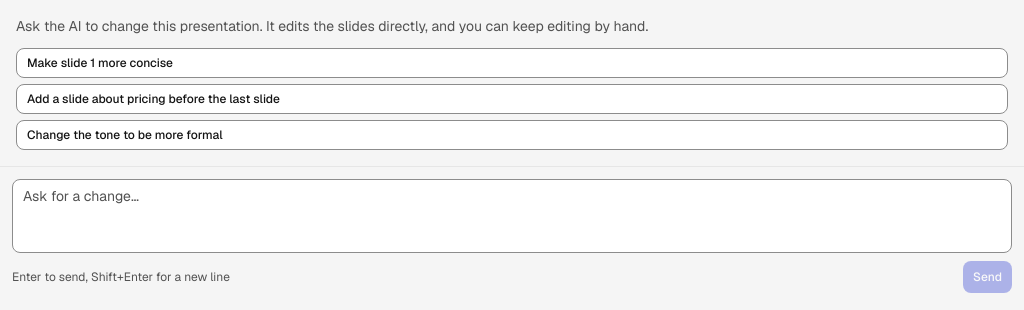
Test case: ChatPanel › keeps received changes and offers a retry when the stream ends early
Type "Shorten slide 1" into the text box named "Message to the AI" at (512, 216), box 12,179 -> 1012,253
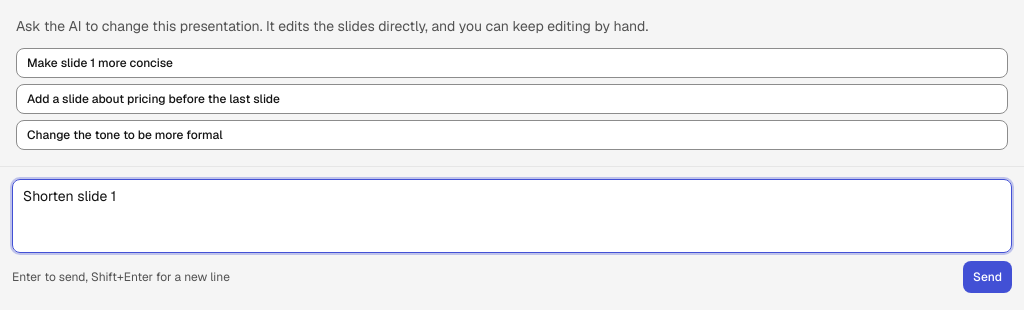
Click the button "Send" at (988, 277), box 963,261 -> 1012,293
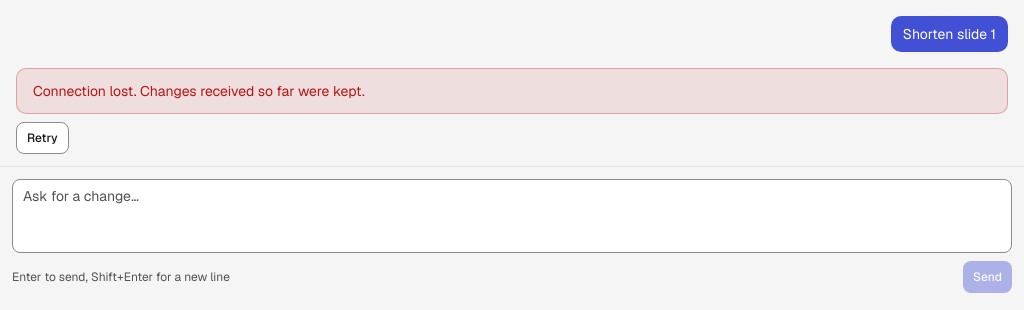
Check: the message reads "Connection lost. Changes received so far were kept.", box 33,82 -> 365,100
Check: the button "Retry" is shown, box 16,122 -> 69,154
